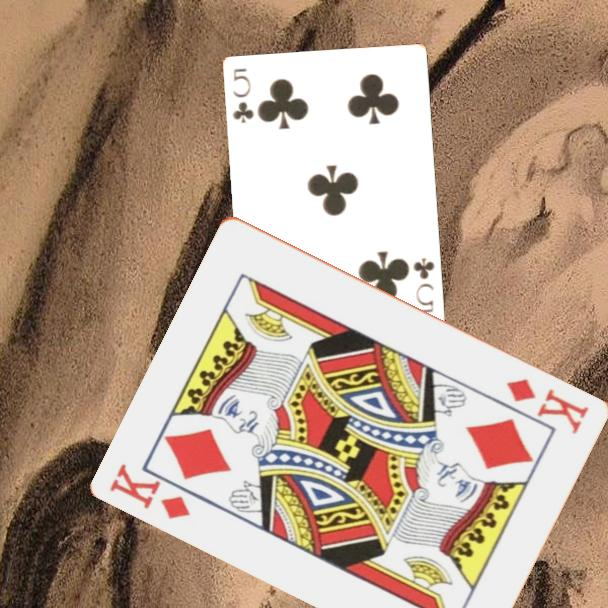c05: (410, 254, 438, 316), (229, 65, 257, 126)
d13: (504, 374, 592, 437), (106, 460, 194, 522)
